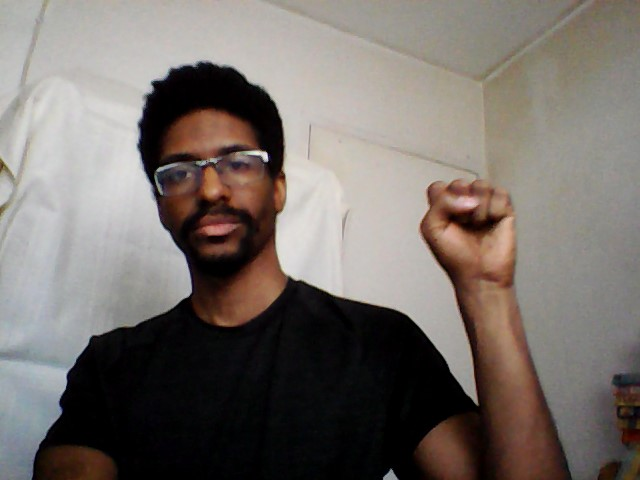s: (415, 173, 526, 287)
